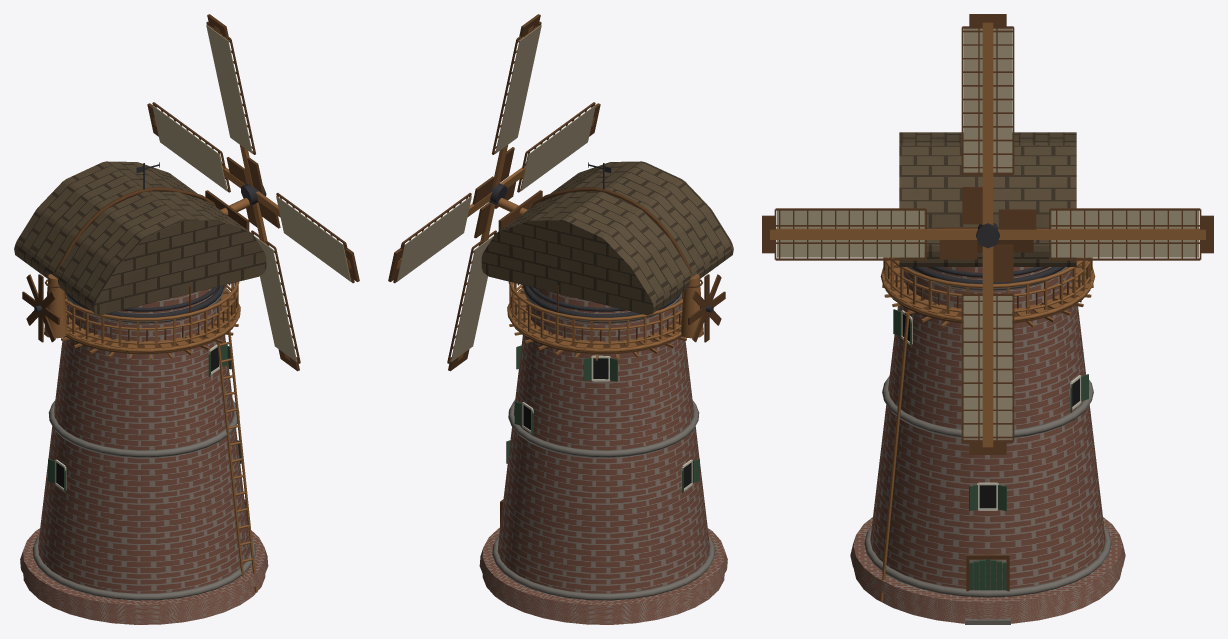
File: windmill.glb
3 views of the same model, side by side, from view 1: azimuth 30°, elevation 25°; view 2: azimuth 150°, elevation 25°; view 3: azimuth 270°, elevation 25° (orthographic). The views are drawn at different scales.
Parts seen in each view (by area): view 1: Mesh_Tower, Mesh_Cap, Mesh_Plinth2, Mesh_Plinth, Mesh_Cloth2, Mesh_Cloth3, Mesh_Cloth1, Mesh_Belt0, Mesh_Cloth0, Mesh_Belt1, Mesh_FantTower, Mesh_StageRim (+8 smaller); view 2: Mesh_Tower, Mesh_Cap, Mesh_Plinth2, Mesh_Plinth, Mesh_Cloth2, Mesh_Cloth1, Mesh_Cloth3, Mesh_Belt0, Mesh_Cloth0, Mesh_Belt1, Mesh_FantTower, Mesh_StageRim (+6 smaller); view 3: Mesh_Tower, Mesh_Cap, Mesh_Plinth2, Mesh_Cloth2, Mesh_Cloth0, Mesh_Cloth1, Mesh_Cloth3, Mesh_Plinth, Mesh_Stock3, Mesh_Stock1, Mesh_Stock2, Mesh_Stock0 (+11 smaller).
Part boxes in pixels (x1=…): Mesh_Tower: x1=38, y1=288, x2=250, y2=593; Mesh_Cap: x1=14, y1=161, x2=266, y2=315; Mesh_Plinth2: x1=20, y1=528, x2=268, y2=615; Mesh_Plinth: x1=23, y1=574, x2=265, y2=624; Mesh_Cloth2: x1=206, y1=25, x2=252, y2=153; Mesh_Cloth3: x1=276, y1=196, x2=351, y2=281; Mesh_Cloth1: x1=152, y1=105, x2=227, y2=190; Mesh_Belt0: x1=32, y1=535, x2=255, y2=600; Mesh_Cloth0: x1=253, y1=235, x2=297, y2=362; Mesh_Belt1: x1=48, y1=399, x2=239, y2=457; Mesh_FantTower: x1=44, y1=274, x2=67, y2=338; Mesh_StageRim: x1=66, y1=291, x2=240, y2=352; Mesh_Tower: x1=497, y1=288, x2=709, y2=593; Mesh_Cap: x1=481, y1=161, x2=733, y2=315; Mesh_Plinth2: x1=479, y1=527, x2=727, y2=615; Mesh_Plinth: x1=482, y1=574, x2=724, y2=624; Mesh_Cloth2: x1=495, y1=25, x2=541, y2=153; Mesh_Cloth1: x1=396, y1=196, x2=471, y2=281; Mesh_Cloth3: x1=520, y1=105, x2=595, y2=190; Mesh_Belt0: x1=492, y1=535, x2=715, y2=600; Mesh_Cloth0: x1=450, y1=235, x2=494, y2=362; Mesh_Belt1: x1=508, y1=399, x2=699, y2=457; Mesh_FantTower: x1=680, y1=274, x2=703, y2=338; Mesh_StageRim: x1=507, y1=291, x2=681, y2=352; Mesh_Tower: x1=870, y1=267, x2=1105, y2=589; Mesh_Cap: x1=899, y1=132, x2=1076, y2=266; Mesh_Plinth2: x1=850, y1=517, x2=1125, y2=613; Mesh_Cloth2: x1=963, y1=28, x2=1012, y2=172; Mesh_Cloth0: x1=963, y1=296, x2=1012, y2=439; Mesh_Cloth1: x1=1051, y1=210, x2=1198, y2=257; Mesh_Cloth3: x1=777, y1=210, x2=924, y2=257; Mesh_Plinth: x1=853, y1=568, x2=1122, y2=623; Mesh_Stock3: x1=770, y1=228, x2=977, y2=239; Mesh_Stock1: x1=998, y1=228, x2=1205, y2=239; Mesh_Stock2: x1=982, y1=22, x2=993, y2=224; Mesh_Stock0: x1=982, y1=246, x2=993, y2=447.
Bounding box in the file's own units: 12.16 × 24.33 × 16.8.
10 materials, 2 textured.
